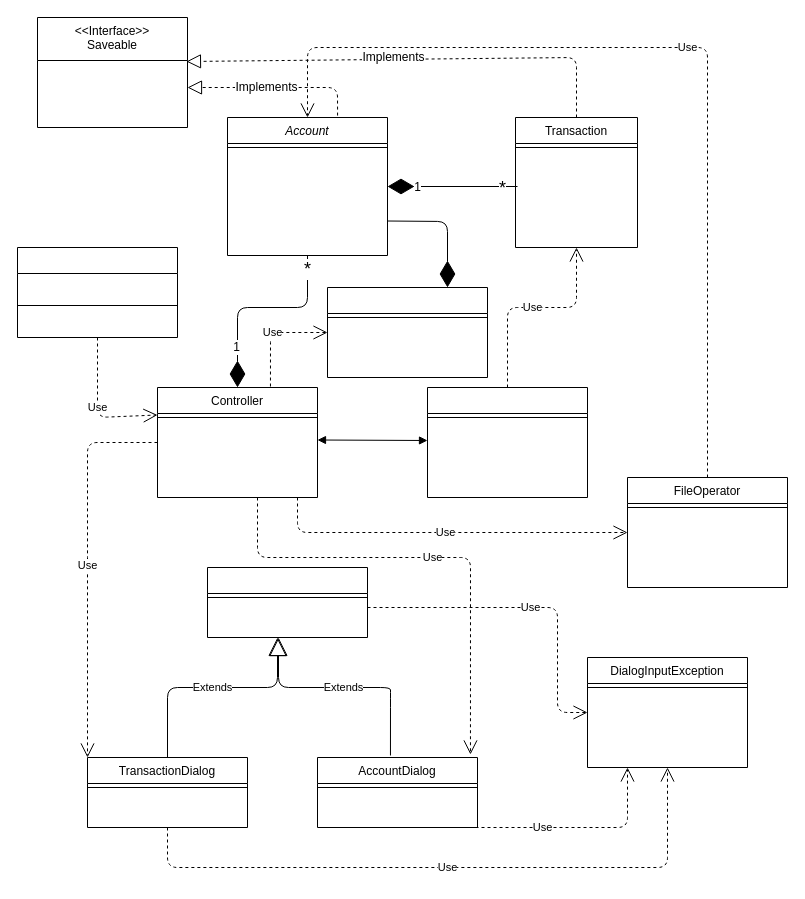
Image size: 805x899. Some labels were removed from this diagram. Each missing label, with the centre of its shape:
ChaChingDialog: the point at 287,602
ExpenseDistributionView: the point at 407,332
Main: the point at 97,292
TransactionTableView: the point at 507,442
